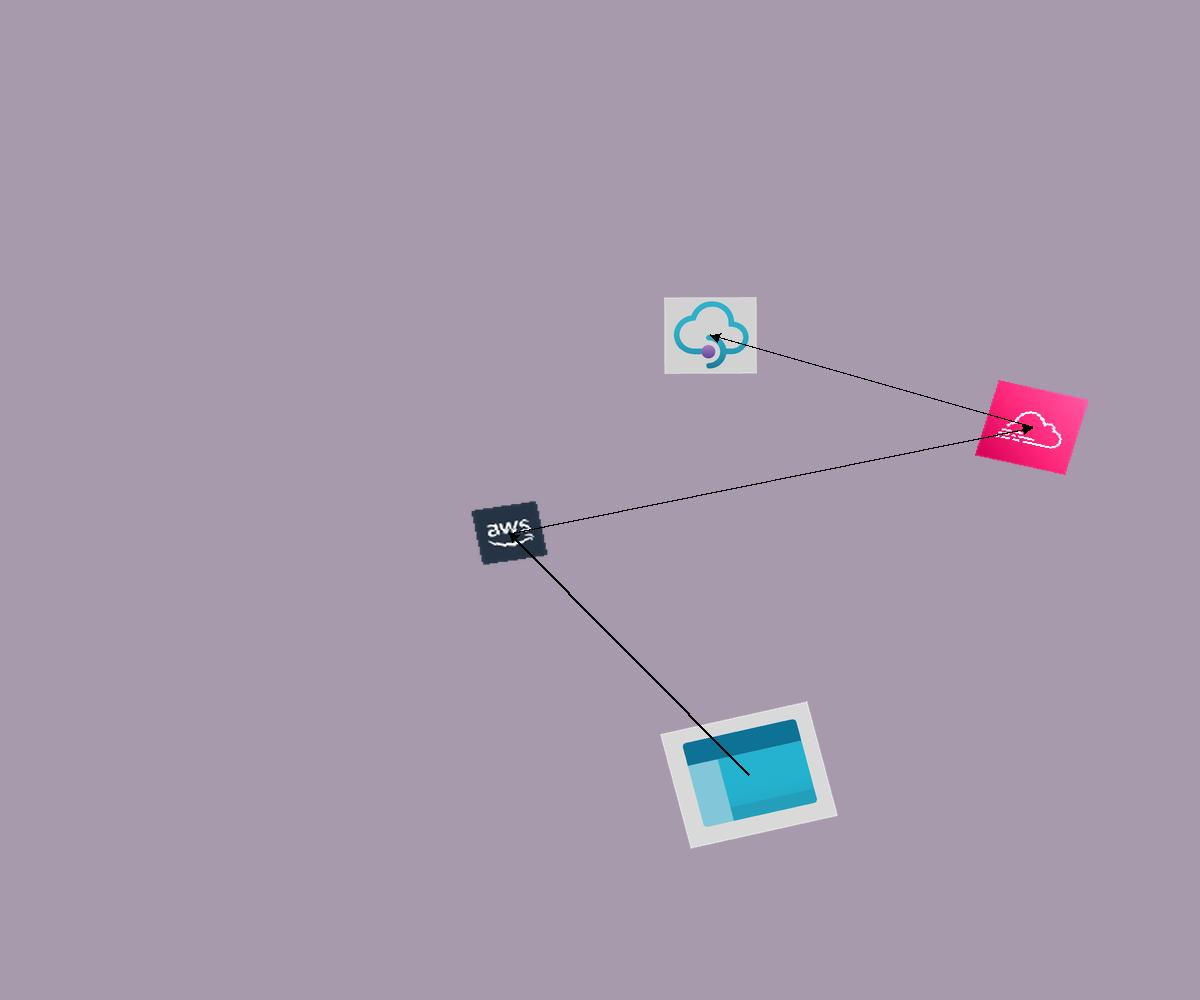AWS-Cloud-logo: (470, 500, 549, 566)
AWS-CloudTrail: (975, 380, 1089, 475)
Azure_api_gateway: (664, 297, 757, 374)
Azure_management-portal: (660, 701, 838, 849)
